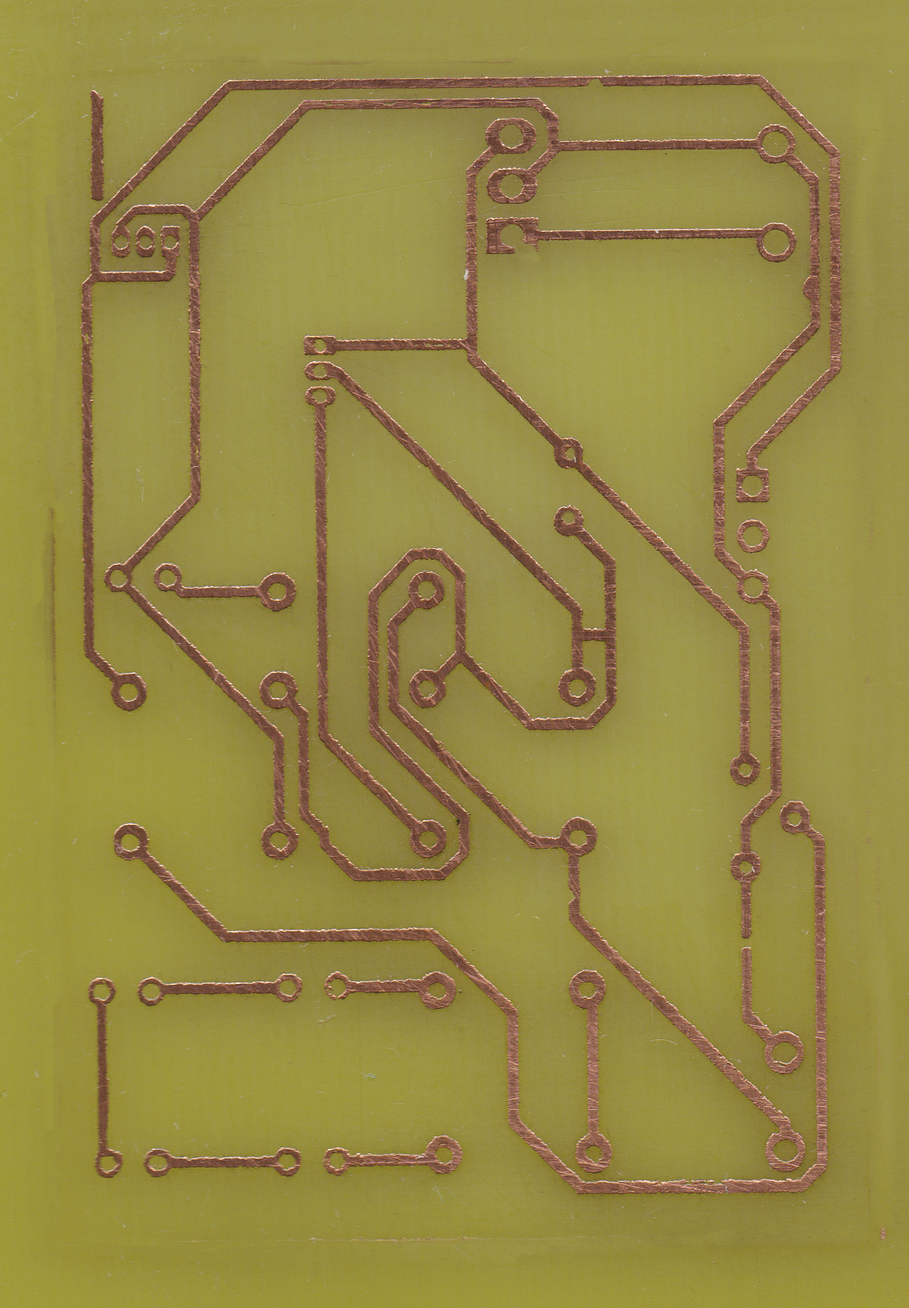missing_hole: (485, 210, 543, 260)
mouse_bite: (564, 881, 585, 914), (580, 71, 608, 94)
open_circuit: (735, 924, 758, 960)
short: (567, 618, 620, 648)
spur: (799, 270, 825, 308)
spurious_copper: (84, 86, 109, 204)
